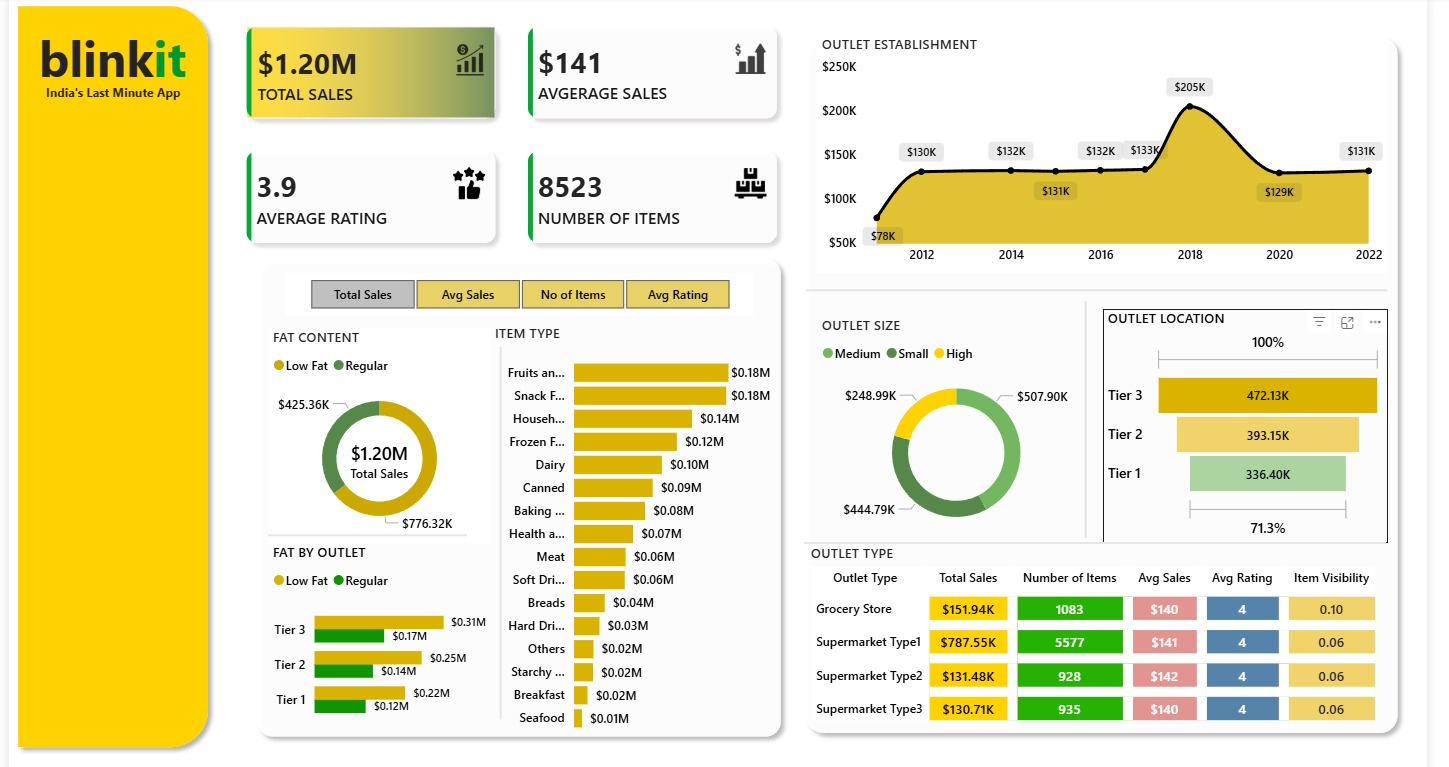

Layout of this report page (visuals, bound fields, positions):
{"tool":"powerbi","page":{"name":"Page 1","canvas":[1400,800],"ordinal":0},"visuals":[{"type":"shape","box":[0,0,205.6,750],"z":0},{"type":"textbox","box":[18.1,21.3,169.1,74.5],"z":1000},{"type":"textbox","box":[31.9,79.8,155.3,30.9],"z":2000},{"type":"cardVisual","fields":{"Data":["BlinkIT Grocery Data.Total_Sales","BlinkIT Grocery Data.Avg_Sales","BlinkIT Grocery Data.Avg_Rating","BlinkIT Grocery Data.Number of Items"]},"box":[205.6,0,582.2,272.2],"z":3000},{"type":"shape","box":[237.2,250,534,489.4],"z":4000},{"type":"donutChart","title":"FAT CONTENT","fields":{"Y":["BlinkIT Grocery Data.Avg_Sales"],"Category":["BlinkIT Grocery Data.Item Fat Content"]},"box":[255.3,326.6,220.2,212.8],"z":5000},{"type":"slicer","fields":{"Values":["Metrics.Metrics"]},"box":[272.6,272.6,463.2,42.5],"z":6000},{"type":"clusteredBarChart","title":"FAT BY OUTLET","fields":{"Y":["BlinkIT Grocery Data.Avg_Sales"],"Category":["BlinkIT Grocery Data.Outlet Location Type"],"Series":["BlinkIT Grocery Data.Item Fat Content"]},"box":[255.3,539.4,220.2,188.3],"z":7000},{"type":"cardVisual","fields":{"Data":["BlinkIT Grocery Data.Avg_Sales"]},"box":[305.3,421.3,121.3,73.4],"z":8000},{"type":"shape","box":[255.3,514.9,196.8,34],"z":8001},{"type":"shape","box":[475.5,345.7,21.3,368.1],"z":8002},{"type":"barChart","title":"ITEM TYPE","fields":{"Y":["BlinkIT Grocery Data.Avg_Sales"],"Category":["BlinkIT Grocery Data.Item Type"]},"box":[475.5,323.4,281.9,412.8],"z":8003},{"type":"shape","box":[778.7,30.9,602.1,705.3],"z":8004},{"type":"lineChart","title":"OUTLET ESTABLISHMENT","fields":{"Y":["BlinkIT Grocery Data.Total Sales"],"Category":["BlinkIT Grocery Data.Outlet Establishment Year"]},"box":[797.9,37.2,563.8,235.1],"z":8005},{"type":"shape","box":[787.2,272.3,574.5,34],"z":8006},{"type":"donutChart","title":"OUTLET SIZE","fields":{"Y":["BlinkIT Grocery Data.Total Sales"],"Category":["BlinkIT Grocery Data.Outlet Size"]},"box":[797.9,314.9,275,225],"z":8007},{"type":"shape","box":[1054.3,300,19.1,234],"z":8008},{"type":"funnel","title":"OUTLET LOCATION","fields":{"Y":["Sum(BlinkIT Grocery Data.Sales)"],"Category":["BlinkIT Grocery Data.Outlet Location Type"]},"box":[1080.9,308.5,280.9,230.9],"z":8009},{"type":"shape","box":[785.2,522.5,574.8,33.6],"z":8010},{"type":"pivotTable","title":"OUTLET TYPE","fields":{"Rows":["BlinkIT Grocery Data.Outlet Type"],"Values":["BlinkIT Grocery Data.Total Sales","BlinkIT Grocery Data.Number of Items","BlinkIT Grocery Data.Avg_Sales","BlinkIT Grocery Data.Avg Rating","Avg(BlinkIT Grocery Data.Item Visibility)"]},"box":[787.2,540.2,582.7,187.7],"z":8011},{"type":"slicer","fields":{"Values":["BlinkIT Grocery Data.Outlet Location Type"]},"box":[20.2,208.5,164.9,63.8],"z":8012},{"type":"slicer","fields":{"Values":["BlinkIT Grocery Data.Outlet Size"]},"box":[20.2,276.6,164.9,62.8],"z":8013},{"type":"slicer","fields":{"Values":["BlinkIT Grocery Data.Item Type"]},"box":[20.2,352.1,164.9,62.8],"z":8014}]}

Visuals, with their boxes on the page's 1400x800 design canvas (x1, y1, x2, y2). These are canvas units, not pixel positions in the 1449x767 screenshot, which may show the page scaled, cropped or inside an application window:
shape: bbox=(0, 0, 206, 750)
textbox: bbox=(18, 21, 187, 96)
textbox: bbox=(32, 80, 187, 111)
cardVisual - BlinkIT Grocery Data.Total_Sales x BlinkIT Grocery Data.Avg_Sales: bbox=(206, 0, 788, 272)
shape: bbox=(237, 250, 771, 739)
"FAT CONTENT" donutChart: bbox=(255, 327, 476, 539)
slicer - Metrics.Metrics: bbox=(273, 273, 736, 315)
"FAT BY OUTLET" clusteredBarChart: bbox=(255, 539, 476, 728)
cardVisual - BlinkIT Grocery Data.Avg_Sales: bbox=(305, 421, 427, 495)
shape: bbox=(255, 515, 452, 549)
shape: bbox=(476, 346, 497, 714)
"ITEM TYPE" barChart: bbox=(476, 323, 757, 736)
shape: bbox=(779, 31, 1381, 736)
"OUTLET ESTABLISHMENT" lineChart: bbox=(798, 37, 1362, 272)
shape: bbox=(787, 272, 1362, 306)
"OUTLET SIZE" donutChart: bbox=(798, 315, 1073, 540)
shape: bbox=(1054, 300, 1073, 534)
"OUTLET LOCATION" funnel: bbox=(1081, 308, 1362, 539)
shape: bbox=(785, 522, 1360, 556)
"OUTLET TYPE" pivotTable: bbox=(787, 540, 1370, 728)
slicer - BlinkIT Grocery Data.Outlet Location Type: bbox=(20, 208, 185, 272)
slicer - BlinkIT Grocery Data.Outlet Size: bbox=(20, 277, 185, 339)
slicer - BlinkIT Grocery Data.Item Type: bbox=(20, 352, 185, 415)
